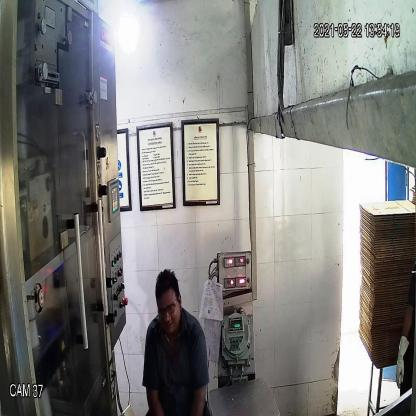goggles: (154, 300, 182, 322)
